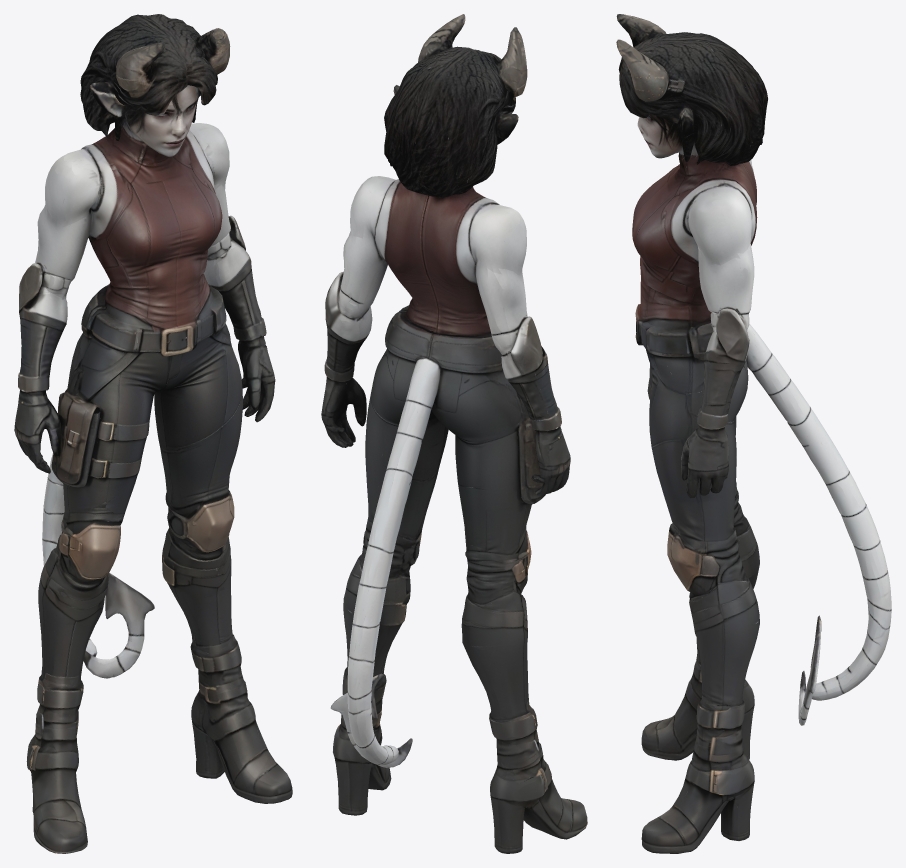
File: 3d-female-tiefling-warrior-with-horns.glb
3 views of the same model, side by side, from view 1: azimuth 30°, elevation 25°; view 2: azimuth 150°, elevation 25°; view 3: azimuth 270°, elevation 25° (orthographic). The views are drawn at different scales.
Visible parts, largest first — view 1: Mesh; view 2: Mesh; view 3: Mesh.
Boxes of the visible parts, box(x1,y1,x2,y2) form: Mesh: box(14, 14, 292, 853); Mesh: box(321, 14, 587, 853); Mesh: box(616, 14, 891, 853).
Size of the model in its own units: 0.6246 by 1.9 by 0.6155.
1 material, 1 textured.
